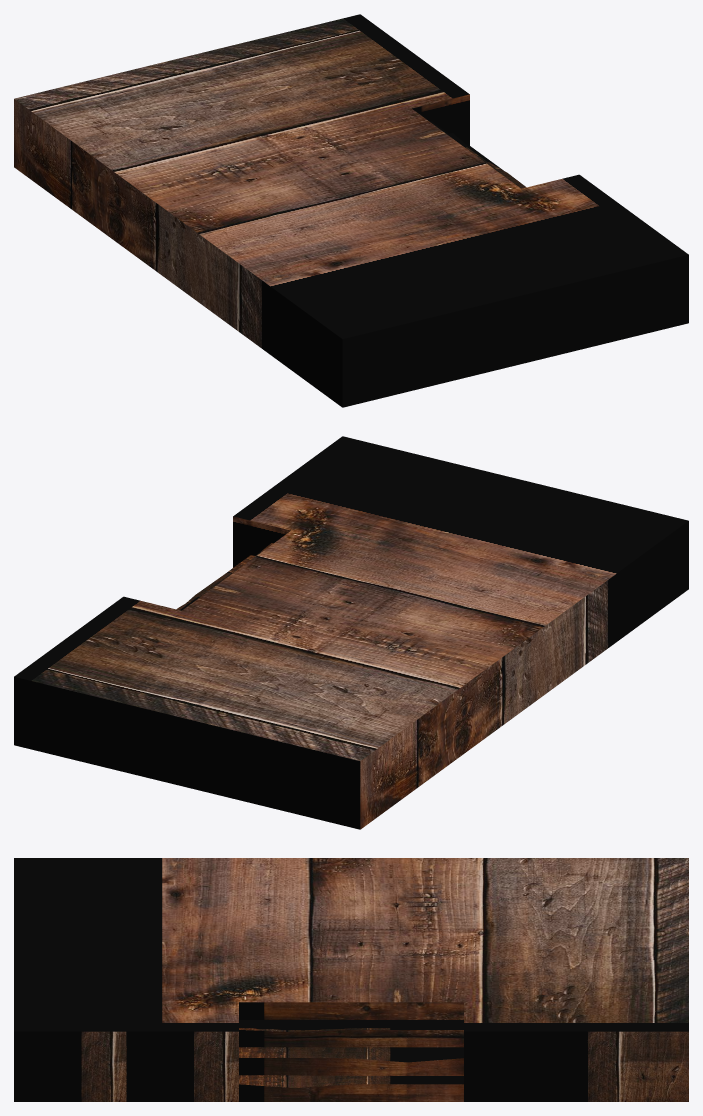
Rendered from TrainStationFoundation.fbx.
The picture shows the model from 3 angles, top to bottom: view 1: azimuth 30°, elevation 25°; view 2: azimuth 150°, elevation 25°; view 3: azimuth 270°, elevation 25°; orthographic projection. The views are drawn at different scales.
Visible parts, largest first — view 1: pCube36; view 2: pCube36; view 3: pCube36.
Boxes of the visible parts, x1,y1,x2,y2 form: pCube36: (14,14,688,407); pCube36: (14,436,688,829); pCube36: (14,858,688,1101).
Size of the model in its own units: 5.29 by 1 by 8.69.
